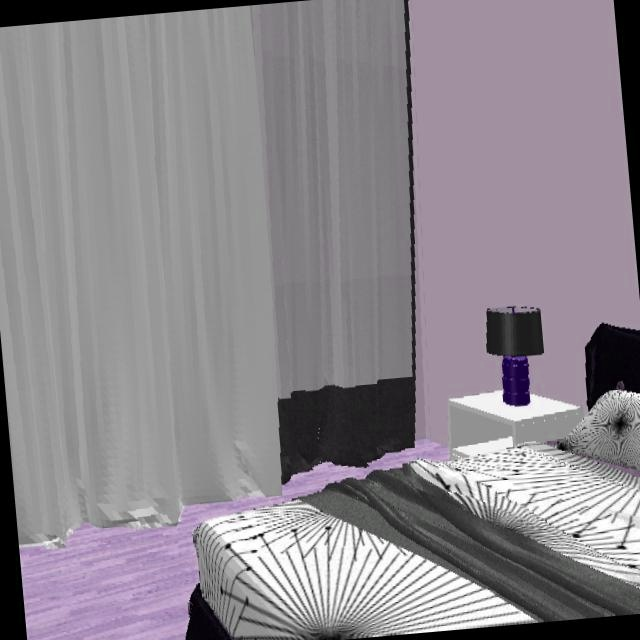bed: (187, 389, 640, 640)
lamp: (484, 305, 547, 409)
nighttable: (449, 385, 581, 446)
